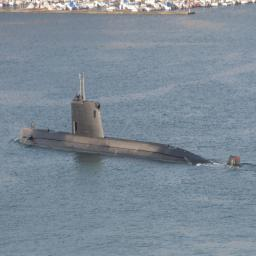submarine: (20, 102, 242, 167)
